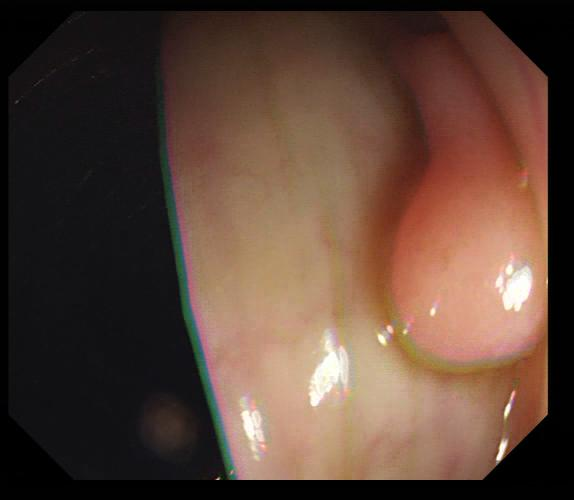polyp: (386, 33, 547, 372)
